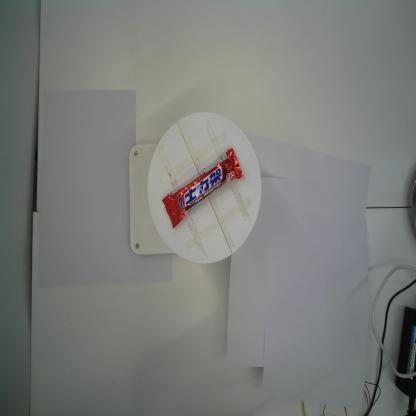Chocolate: (161, 146, 246, 231)
